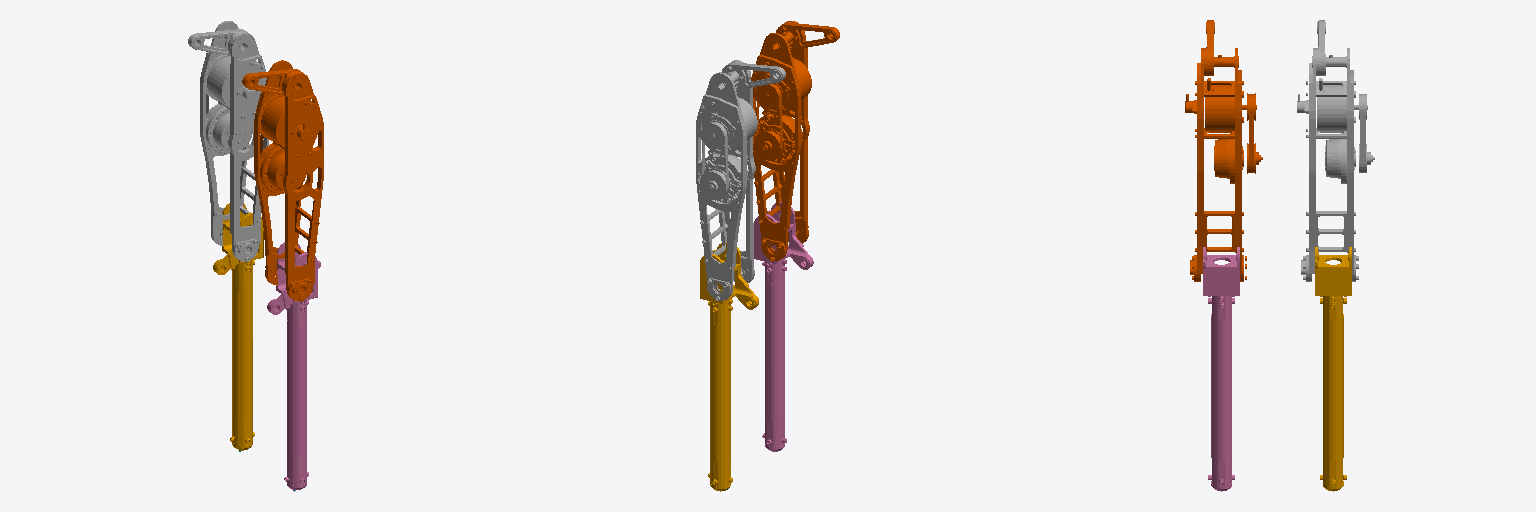
The robot description file, URDF, robot "amber3_PF":
<!-- AMBER 2D Model Description                                         -->
<robot name="amber3_PF">
  <material name="red">
    <color rgba="0 0 0.8 1"/>
  </material>
   <link name="world" />
 <link name="base_link" />
 <link name="base_link2" />
 <link name="base_link3" />


  <!-- Linkage Definitions -->
  <link name="torso">
    <inertial>
      <origin xyz="0 0 -0.28507"/>
      <mass value="13"/>
      <inertia ixx="0" ixy="0" ixz="0" iyy="0.5940" iyz="0" izz="0"/>
    </inertial>
    <visual>
      <geometry>
        <!--box size="0.1 0.1 0.5"/-->
        <mesh scale="0.001 0.001 0.001" filename="mesh/Torso_basic.STL"/>
      </geometry>
      <!--origin xyz="0.0 0.0 -0.25" rpy="0.0 0.0 0.0"/-->
      <origin xyz="0.08 0.2 -0.55" rpy="1.57 0 -1.57"/>
    </visual>
  </link>
  <link name="left_thigh">
    <inertial>
      <origin xyz="0.0 0.0 -0.1494" rpy= "0 0 0"/>
      <mass value="3.4261"/>
      <inertia ixx="0" ixy="0" ixz="0" iyy="0.3389" iyz="0" izz="0"/>
    </inertial>
    <visual>
      <geometry>
        <!--cylinder length="0.4046" radius="0.02"/-->
        <mesh scale="0.001 0.001 0.001" filename="mesh/Thigh_basic.STL"/>
      </geometry>
      <!--origin xyz="0.0 -0.1 -0.2" rpy="0.0 0.0 0.0"/-->
      <origin xyz="0.04 -0.02 -0.4666" rpy="1.57 0 -1.57"/>
    </visual>
  </link>
  <link name="left_shin">
    <inertial>
      <origin xyz="0 0 -0.171885" rpy="0 0 0"/>
      <mass value=".85216"/>
      <inertia ixx="0" ixy="0" ixz="0" iyy="0.219286025" iyz="0" izz="0"/>
    </inertial>
    <visual>
      <origin xyz="0.04 -0.06 -0.4666" rpy="1.57 0 -1.57"/>
      <!--origin xyz="0.0 -0.1 -0.23" rpy="0 0 0"/-->
      <geometry>
        <!--cylinder length="0.4666" radius="0.02"/-->
        <mesh scale="0.001 0.001 0.001" filename="mesh/Shank_basic.STL"/>
      </geometry>
    </visual>
    <collision>
      <origin xyz="0.0 -0.1 -0.23" rpy="0 0 0"/>
      <geometry>
        <cylinder length="0.4666" radius="0.02"/>
      </geometry>
    </collision>
  </link>
  <link name="right_thigh">
    <inertial>
      <origin xyz="0.0 0.0 -0.1494" rpy= "0 0 0"/>
      <mass value="3.4261"/>
      <inertia ixx="0" ixy="0" ixz="0" iyy="0.3389" iyz="0" izz="0"/>
    </inertial>
    <visual>
      <!--origin xyz="0.0 0.1 -0.2" rpy="0 0 0"/-->
      <origin xyz="0.04 0.18 -0.4666" rpy="1.57 0 -1.57"/>
      <geometry>
        <!--cylinder length="0.4046" radius="0.02"/-->
        <mesh scale="0.001 0.001 0.001" filename="mesh/Thigh_basic.STL"/>
      </geometry>
    </visual>
  </link>
  <link name="right_shin">
    <inertial>
      <origin xyz="0.0 0.0 -0.171885" rpy="0 0 0"/>
      <mass value="0.85216"/>
      <inertia ixx="0" ixy="0" ixz="0" iyy="0.219286025" iyz="0" izz="0"/>
    </inertial>
    <visual>
      <origin xyz="0.04 0.14 -0.4666" rpy="1.57 0 -1.57"/>
      <!--origin xyz="0.0 0.1 -0.23" rpy="0 0 0"/-->
      <geometry>
        <!--cylinder length="0.4666" radius="0.02"/-->
        <mesh scale="0.001 0.001 0.001" filename="mesh/Shank_basic.STL"/>
      </geometry>
    </visual>
    <collision>
      <origin xyz="0.0 0.1 -0.23" rpy="0 0 0"/>
      <geometry>
        <cylinder length="0.4666" radius="0.02"/>
      </geometry>
    </collision>
  </link>


  <!-- Joint Definitions -->
  <joint name="q1_left" type="revolute">
    <parent link="torso"/>
    <child link="left_thigh"/>
    <origin xyz="0 0 -0.4999" rpy="0 0 0"/>
    <axis xyz="0 1 0"/>
    <limit effort="400.0" lower="-1.6" upper="1.6" velocity="4"/>
  </joint>
  <joint name="q2_left" type="revolute">
    <parent link="left_thigh"/>
    <child link="left_shin"/>
    <origin xyz="0.0 0.0 -0.4064" rpy="0 0 0"/>
    <axis xyz="0 1 0"/>
    <limit effort="400.0" lower="0" upper="3.5" velocity="4"/>
  </joint>
    <joint name="q1_right" type="revolute">
    <parent link="torso"/>
    <child link="right_thigh"/>
    <origin xyz="0.0 0.0 -0.4999" rpy="0 0 0"/>
    <axis xyz="0 1 0"/>
    <limit effort="400.0" lower="-1.6" upper="1.6" velocity="4"/>
  </joint>
  <joint name="q2_right" type="revolute">
    <parent link="right_thigh"/>
    <child link="right_shin"/>
    <origin xyz="0.0 0.0 -0.4064" rpy="0 0 0"/>
    <axis xyz="0 1 0"/>
    <limit effort="400.0" lower="0" upper="3.5" velocity="5"/>
  </joint>

  <joint name="base_link_to_base_link2" type="revolute">
    <parent link="base_link"/>
    <child link="base_link2"/>
    <!-- <axis xyz="0 0 1"/>  -->
    <axis xyz="0 1 0"/>
    <limit effort="1000.0" lower="-1" upper="1" velocity="0.5"/>
    <origin rpy="0 0 0" xyz="0 0.0 0"/>
  </joint>

  <joint name="base_link2_to_base_link3" type="prismatic">
    <parent link="base_link2"/>
    <child link="base_link3"/>
    <!-- <axis xyz="0 1 0"/>  -->
    <axis xyz="0 0 1"/>
    <origin rpy="0 0 0" xyz="0 0.0 0"/>
  </joint>

  <joint name="base_link3_to_torso" type="prismatic">
    <parent link="base_link3"/>
    <child link="torso"/>
    <axis xyz="1 0 0"/>
    <origin rpy="0 0 0" xyz="0 0.0 0"/>
  </joint>

 <joint name="world_joint" type="fixed">
  <parent link="world"/>
   <child link="base_link"/>
  <origin rpy="0 0 0" xyz="0 0.0 0"/>
  </joint>

  <!-- Toe -->
  <link name="left_toe">
    <contact>
      <friction_anchor/>
      <stiffness value="30000000.0"/>
      <damping value="10000.0"/>
      <spinning_friction value="0.3"/>
      <lateral_friction value="3.0"/>
    </contact>
    <visual>
      <origin rpy="0 0 0" xyz="0 0 0"/>
      <geometry>
        <sphere radius="0.003"/>
      </geometry>
      <material name="darkgray"/>
    </visual>
    <collision>
      <origin rpy="0 0 0" xyz="0 0 0"/>
      <geometry>
        <sphere radius="0.003"/>
      </geometry>
    </collision>
    <inertial>
      <mass value="0.0"/>
      <inertia ixx="0.0" ixy="0" ixz="0" iyy="0.0" iyz="0" izz="0.0"/>
    </inertial>
  </link>
  <joint name="jleft_toe" type="fixed">
    <parent link="left_shin"/>
    <child link="left_toe"/>
    <origin xyz="0 -0.1 -0.4636"/>
    <dynamics damping="0.0" friction="0.0"/> 
  </joint>
<!-- Toe -->
  <link name="right_toe">
    <contact>
      <friction_anchor/>
      <stiffness value="30000000.0"/>
      <damping value="10000.0"/>
      <spinning_friction value="0.3"/>
      <lateral_friction value="3.0"/>
    </contact>
    <visual>
      <origin rpy="0 0 0" xyz="0 0 0"/>
      <geometry>
        <sphere radius="0.003"/>
      </geometry>
      <material name="darkgray"/>
    </visual>
    <collision>
      <origin rpy="0 0 0" xyz="0 0 0"/>
      <geometry>
        <sphere radius="0.003"/>
      </geometry>
    </collision>
    <inertial>
      <mass value="0.0"/>
      <inertia ixx="0.00" ixy="0" ixz="0" iyy="0.0" iyz="0" izz="0.00"/>
    </inertial>
  </link>
  <joint name="jright_toe" type="fixed">
    <parent link="right_shin"/>
    <child link="right_toe"/>
    <origin xyz="0 0.1 -0.4636"/>
    <dynamics damping="0.0" friction="0.0"/>
  </joint>
</robot>

--- Render facts (derived) ---
3 views of the same robot in one strip: view 1: azimuth 30°, elevation 25°; view 2: azimuth 150°, elevation 25°; view 3: azimuth 270°, elevation 25° (orthographic).
Robot: amber3_PF — 11 links, 10 joints (5 revolute, 2 prismatic, 3 fixed); root link world; default pose: all joints at 0.
Visible links, largest first — view 1: left_thigh, right_thigh, right_shin, left_shin; view 2: right_thigh, left_thigh, right_shin, left_shin; view 3: right_thigh, left_thigh, right_shin, left_shin.
Link boxes in pixels (box(x1,y1,x2,y2)): left_thigh: box(242, 60, 323, 301); right_thigh: box(188, 21, 268, 261); right_shin: box(213, 203, 263, 450); left_shin: box(267, 242, 320, 489); right_thigh: box(696, 60, 785, 300); left_thigh: box(751, 21, 839, 261); right_shin: box(700, 242, 758, 491); left_shin: box(754, 202, 813, 451); right_thigh: box(1297, 20, 1374, 281); left_thigh: box(1185, 20, 1262, 281); right_shin: box(1315, 247, 1351, 491); left_shin: box(1203, 247, 1239, 491).
Bounding box of the posed robot: 0.1562 × 0.339 × 0.8763 m (x, y, z).
4 mesh visuals loaded from 3 distinct referenced files (2 binary STL); not drawn: 1 (reference not matched to a file when rendering).
